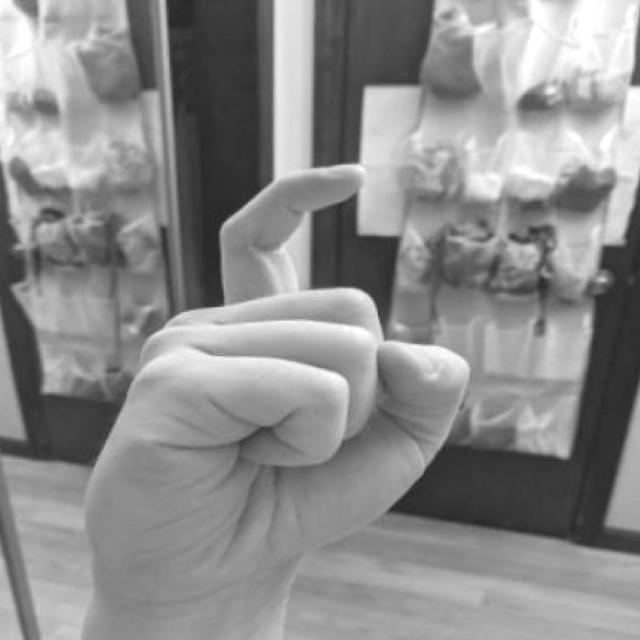X: (70, 154, 474, 640)
